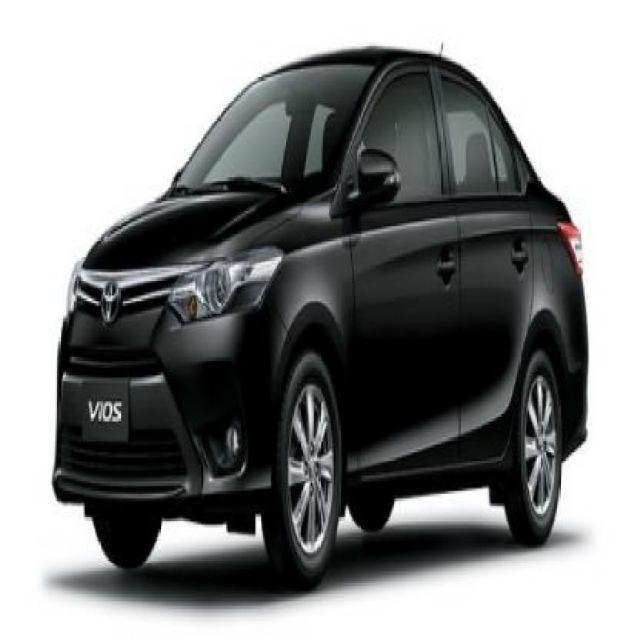ToyotaVios: (49, 42, 589, 590)
